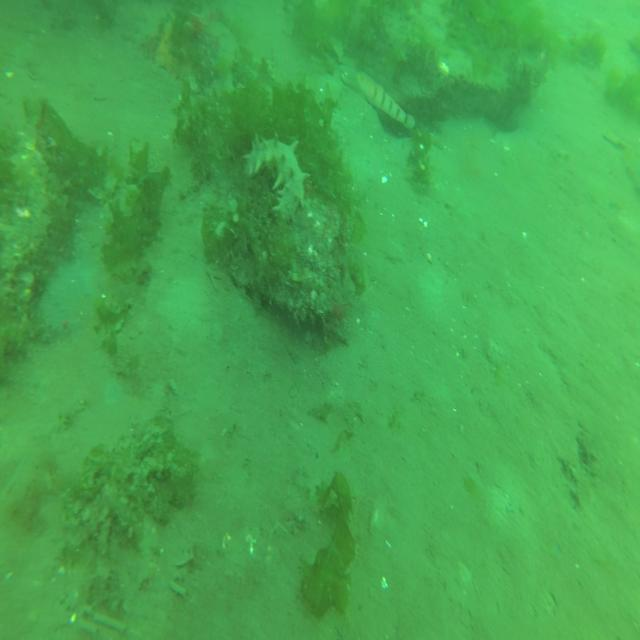holothurian: (242, 131, 309, 226)
scallop: (602, 133, 627, 149)
